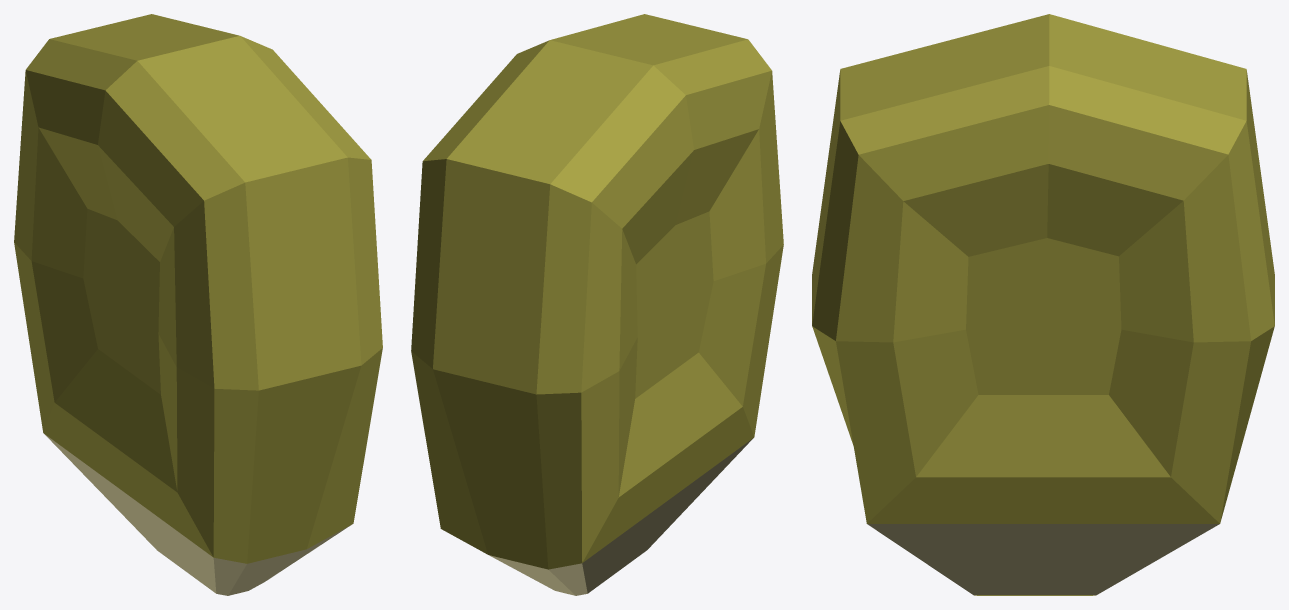
Rendered from seed.glb.
The picture shows the model from 3 angles, left to right: view 1: azimuth 30°, elevation 25°; view 2: azimuth 150°, elevation 25°; view 3: azimuth 270°, elevation 25°; orthographic projection. The views are drawn at different scales.
Visible parts, largest first — view 1: Куб; view 2: Куб; view 3: Куб.
Part boxes in pixels (bbox=[...]): Куб: bbox=[14, 14, 382, 595]; Куб: bbox=[411, 14, 783, 595]; Куб: bbox=[812, 14, 1274, 595].
Size of the model in its own units: 0.0759 by 0.1975 by 0.1525.
